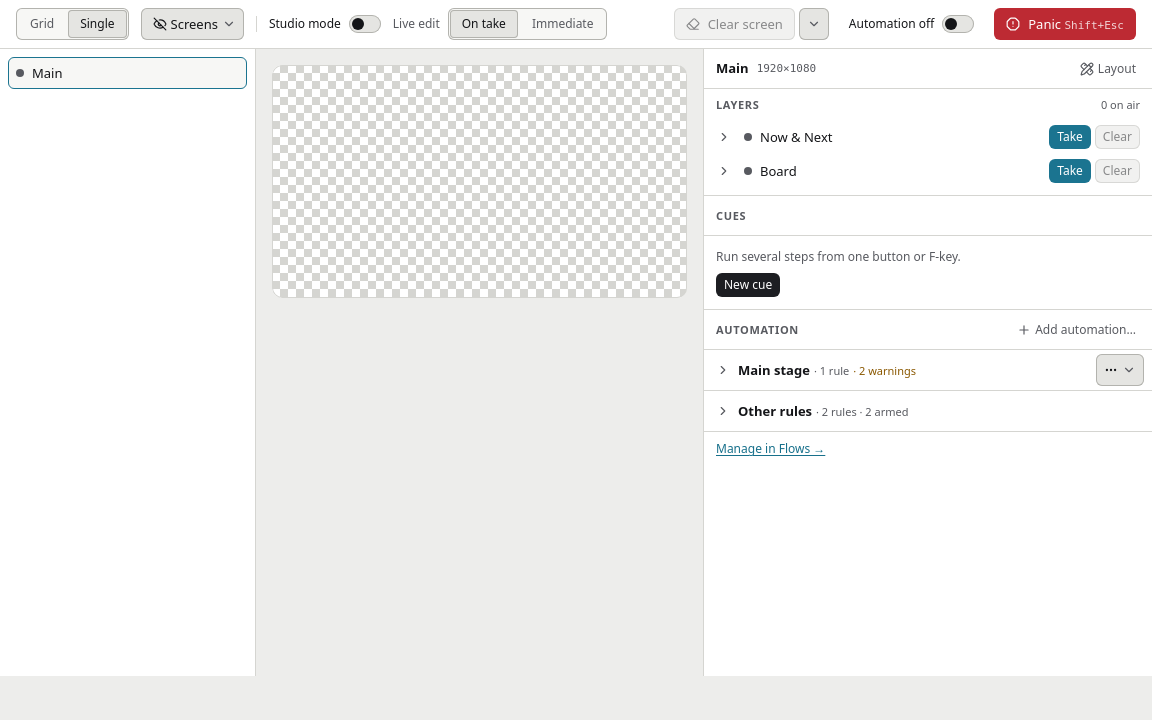
Test case: rule rows › under their automation or Other rules, with summaries and states; warnings aggregated per row
Click the button with class "toggle" that starts with "Main stage" at coordinates (902, 370), box [712,354,1092,386]
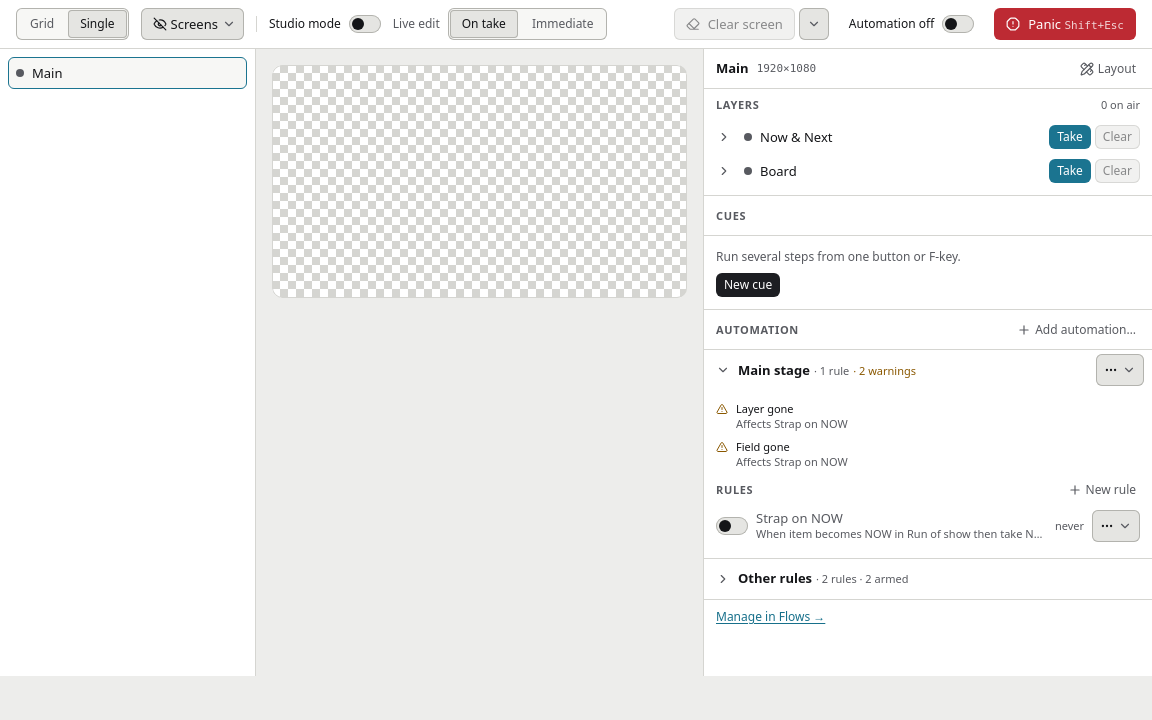
Click the button with class "toggle" that starts with "Other rules" at coordinates (775, 578), box [712,563,1144,595]
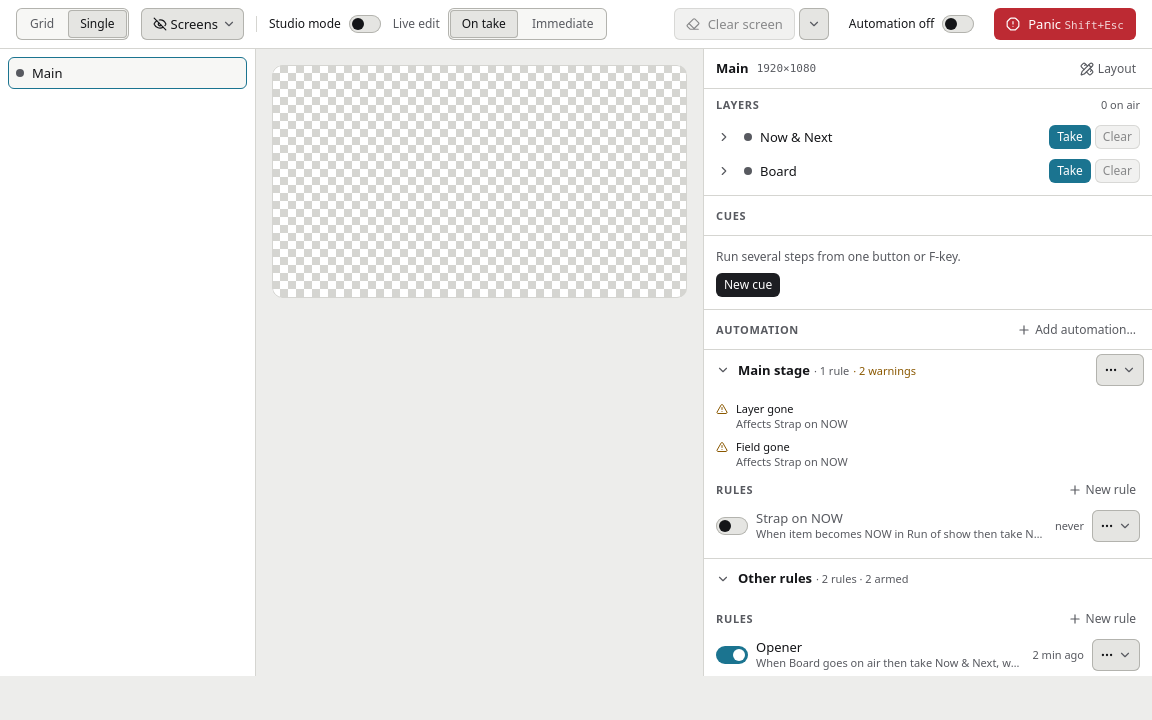
Check: the text "Strap on NOW" is shown, box [756,509,843,527]
Check: the text "Opener" is shown, box [756,638,802,656]
Check: the text with class "fired" reads "2 min ago", box [1032,647,1084,662]
